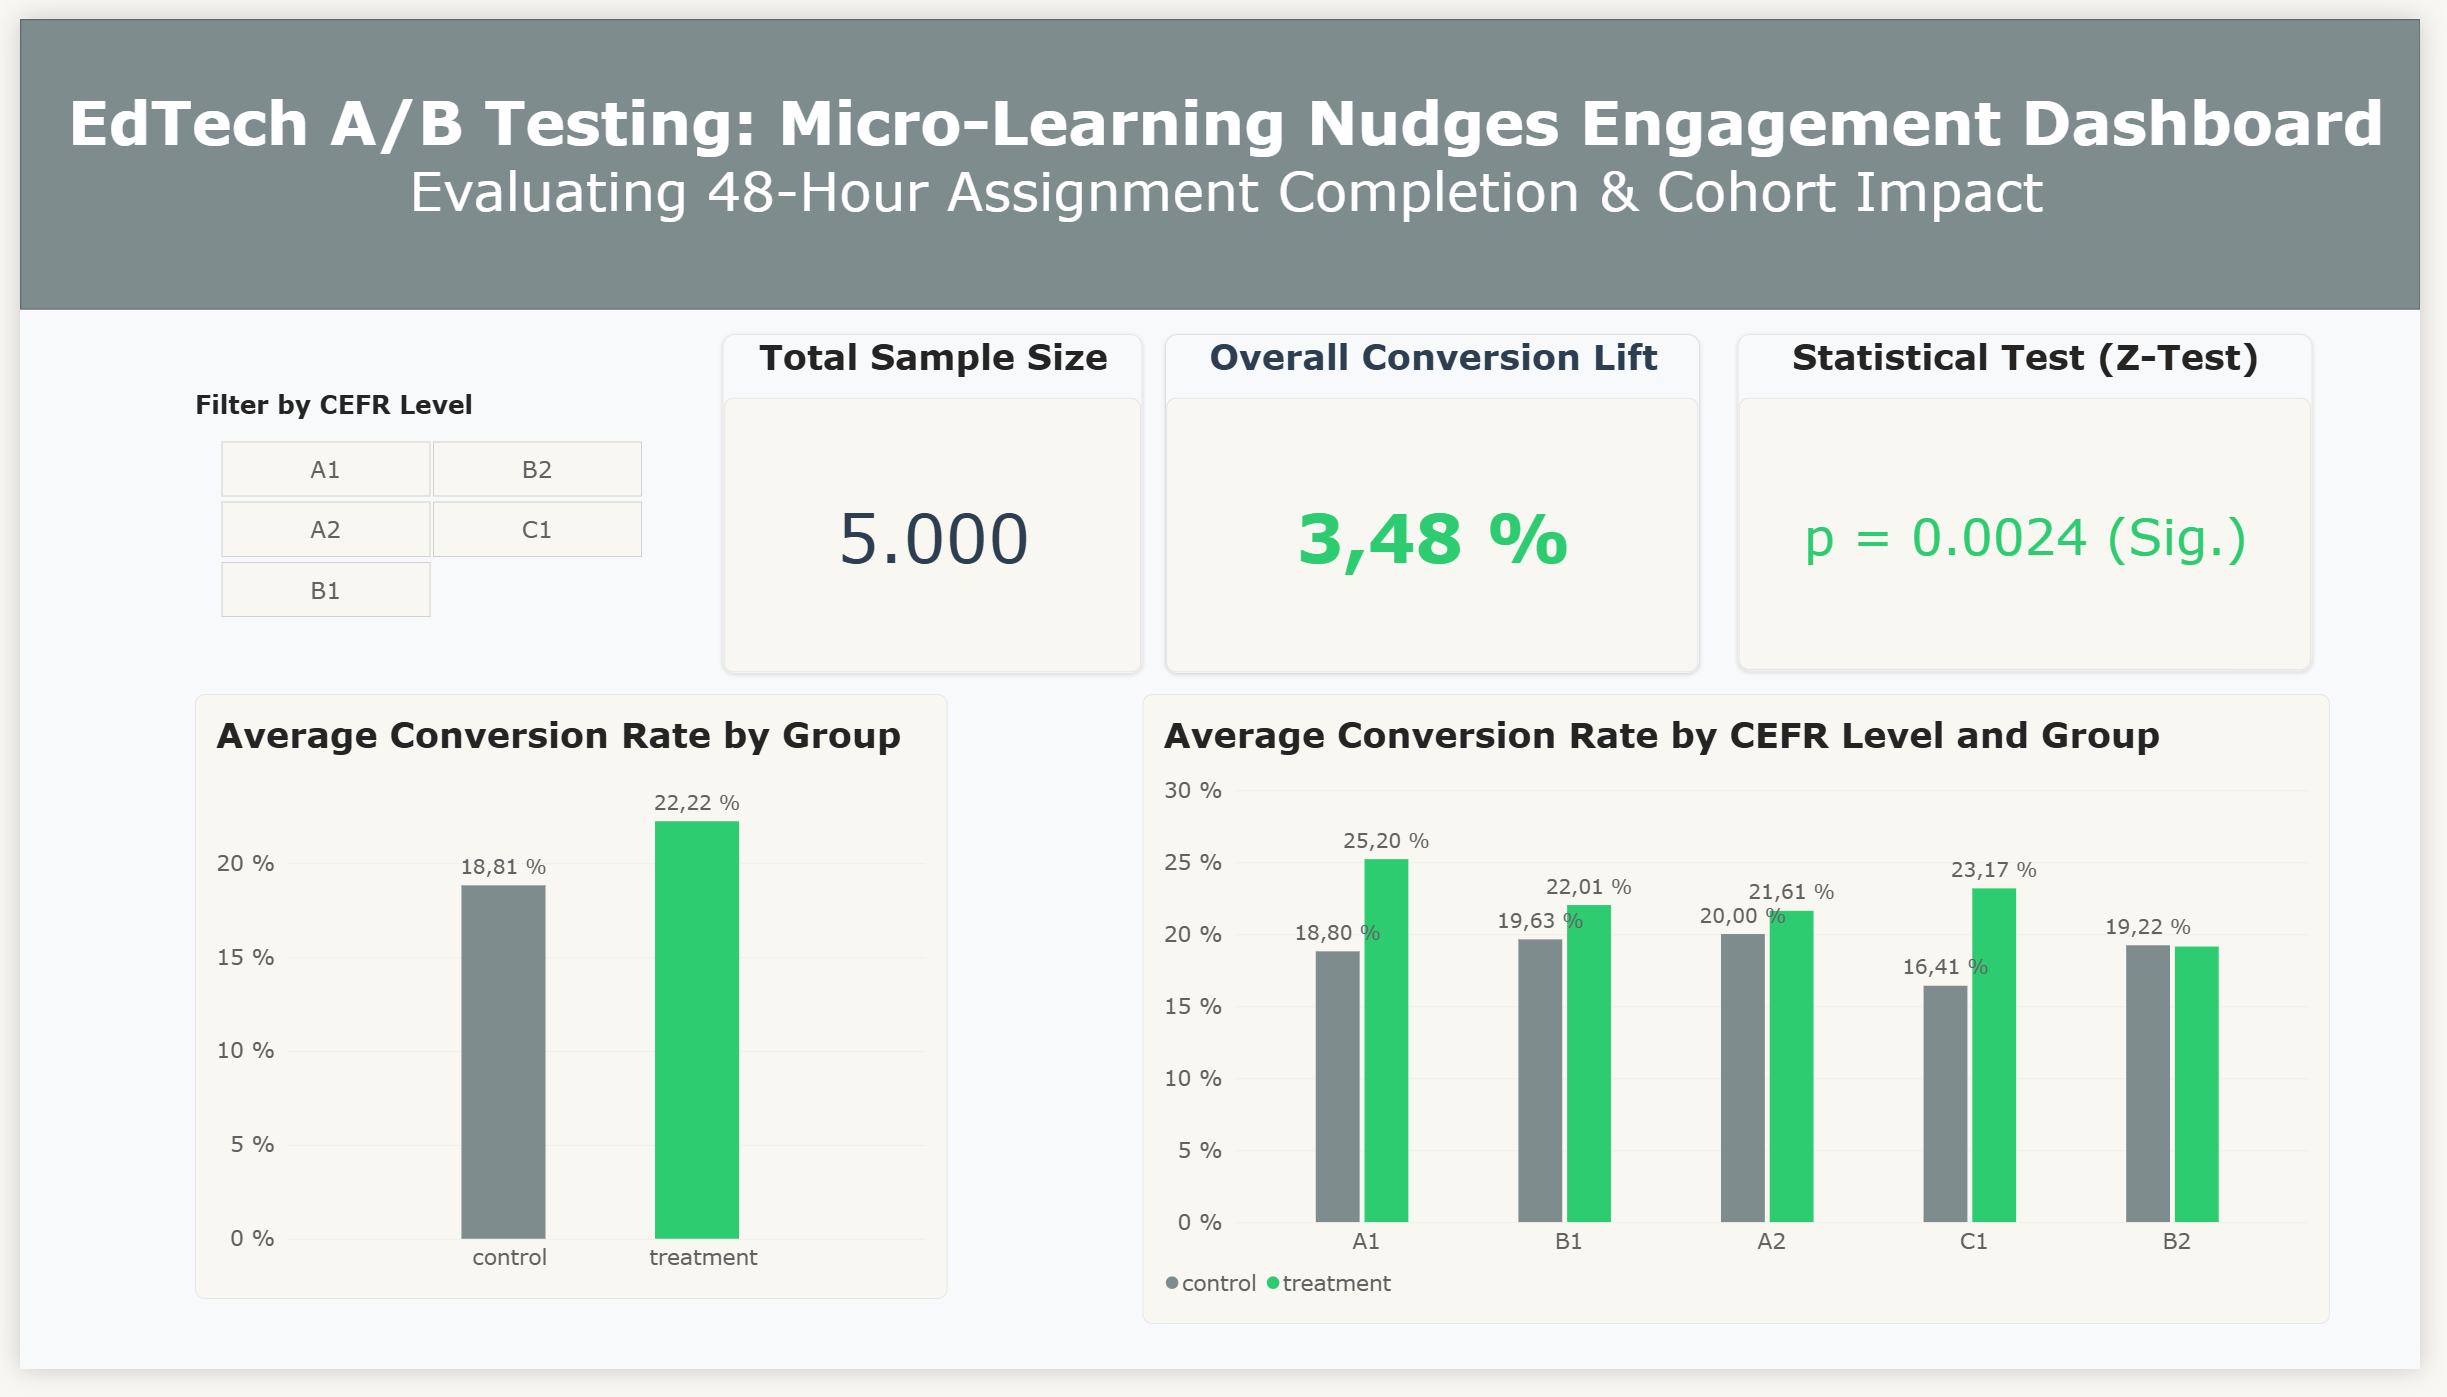

This screenshot's page, from the dashboard's own definition file:
{"tool":"powerbi","page":{"name":"Page 1","canvas":[1920,1080],"ordinal":0},"visuals":[{"type":"shape","box":[0,0,1920.4,232.6],"z":0},{"type":"textbox","box":[10.3,51.5,1910.1,150.3],"z":1000},{"type":"cardVisual","title":"Total Sample Size","fields":{"Data":["Sum(powerbi_ab_test_summary (3).total_students)"]},"box":[562,252,336,272],"z":2000},{"type":"cardVisual","title":"Overall Conversion Lift","fields":{"Data":["powerbi_ab_test_summary (3).Conversion Lift1"]},"box":[916,252,428,272],"z":3000},{"type":"cardVisual","title":"Statistical Test (Z-Test)","fields":{"Data":["powerbi_ab_test_summary.p_value_display"]},"box":[1374,252,460,270],"z":4000},{"type":"clusteredColumnChart","title":"Average Conversion Rate by Group","fields":{"Category":["powerbi_ab_test_summary (3).group"],"Y":["Avg(powerbi_ab_test_summary (3).conversion_rate)"]},"box":[140,540,602,484],"z":5000},{"type":"clusteredColumnChart","title":"Average Conversion Rate by CEFR Level and Group","fields":{"Category":["powerbi_ab_test_summary (3).cefr_level"],"Series":["powerbi_ab_test_summary (3).group"],"Y":["Avg(powerbi_ab_test_summary (3).conversion_rate)"]},"box":[898,540,950,504],"z":6000},{"type":"slicer","title":"Filter by CEFR Level","fields":{"Values":["powerbi_ab_test_summary (3).cefr_level"]},"box":[140,296,376.4,184.6],"z":7000}]}

Visuals, with their boxes in screenshot pixels (x1, y1, x2, y2), scaled from the page's 1920x1080 canvas onto the 2447x1397 screenshot:
shape: locate(0, 0, 2446, 301)
textbox: locate(13, 67, 2446, 261)
"Total Sample Size" cardVisual: locate(716, 326, 1144, 678)
"Overall Conversion Lift" cardVisual: locate(1167, 326, 1713, 678)
"Statistical Test (Z-Test)" cardVisual: locate(1751, 326, 2337, 675)
"Average Conversion Rate by Group" clusteredColumnChart: locate(178, 698, 946, 1325)
"Average Conversion Rate by CEFR Level and Group" clusteredColumnChart: locate(1144, 698, 2355, 1350)
"Filter by CEFR Level" slicer: locate(178, 383, 658, 622)
